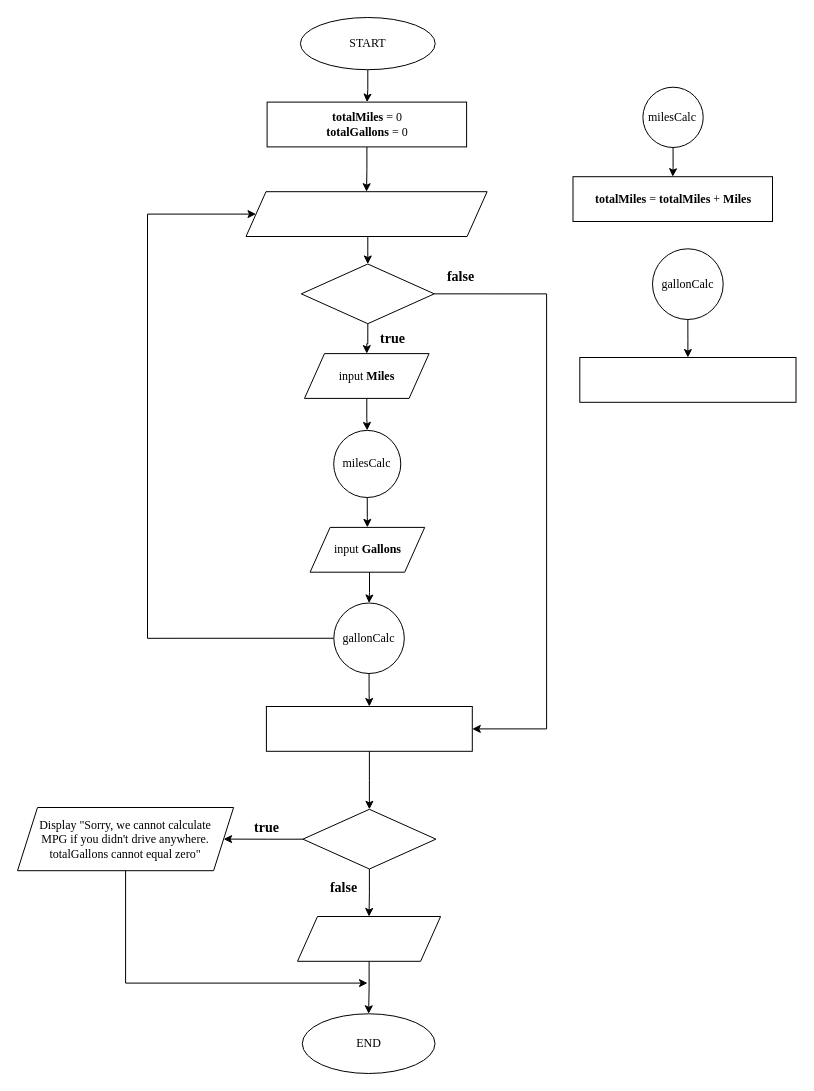
Some shapes in this 814 by 1091 pixel diagram are drawn without their labels. Here are the shapes that lost their labels. From the top down, the centre of each, then its label:
pixel 366 213: Ask user if they want to calculate MPG ( y/n )
pixel 367 293: is input = y
pixel 687 379: totalGallons = totalGallons + Gallons
pixel 368 728: Calculate MPG = totalMiles / totalGallons
pixel 369 838: is totalGallons = 0
pixel 368 938: Display MPG
